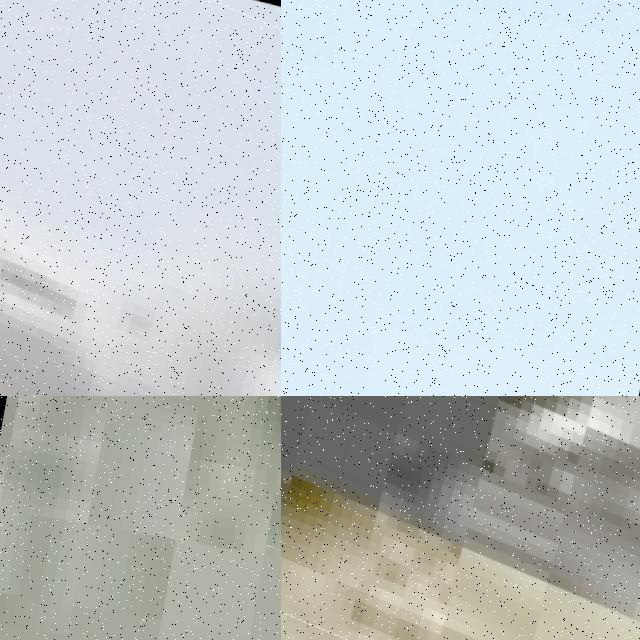0: (281, 396, 640, 640)
drone: (0, 0, 281, 396)
